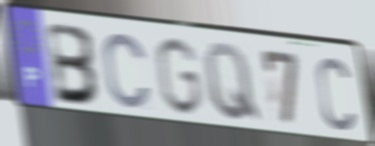7: (258, 48, 300, 127)
B: (45, 20, 103, 108)
C: (101, 30, 153, 112), (314, 54, 357, 134)
G: (153, 35, 205, 118)
Q: (201, 40, 263, 125)
